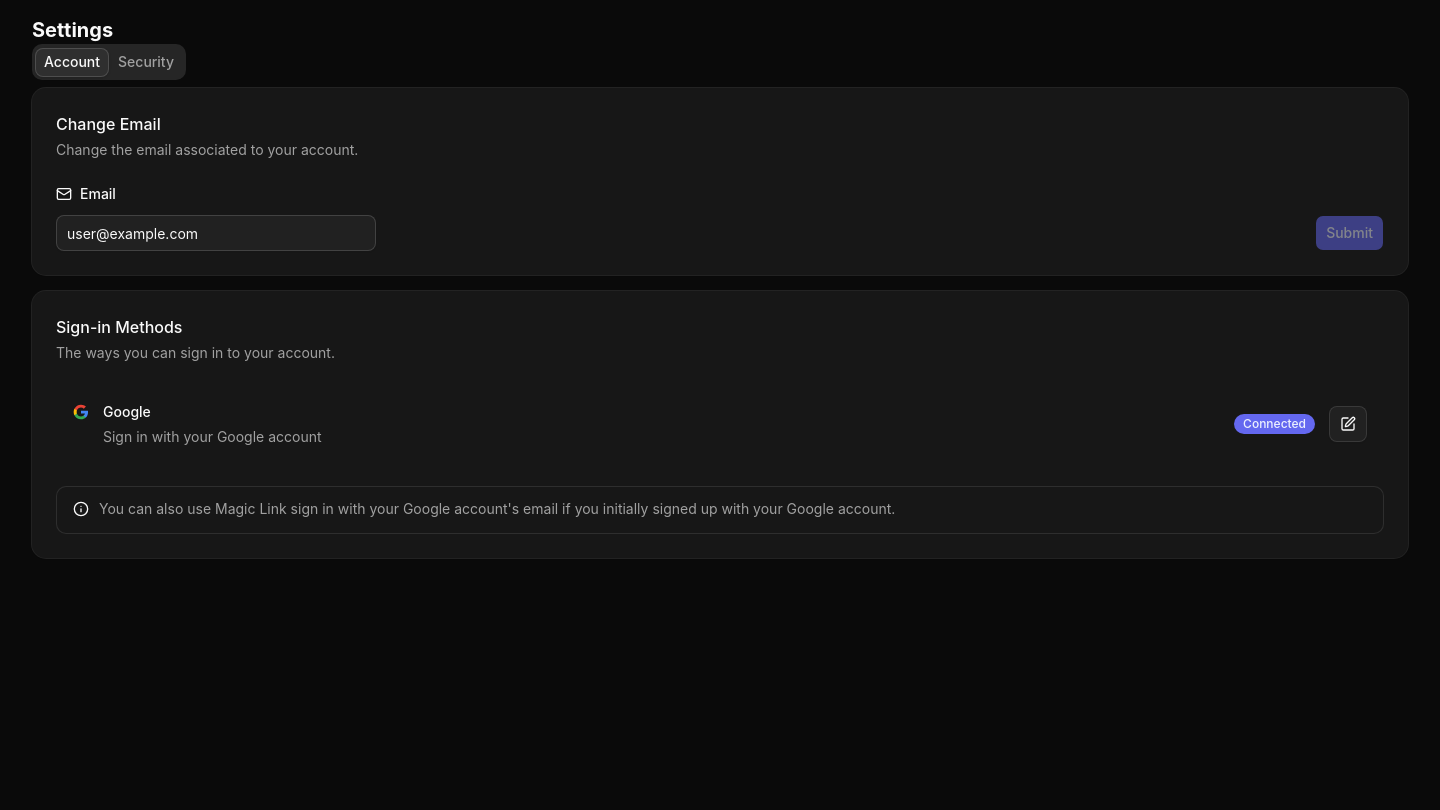
Test: Settings Page › Change Email section › shows error message when changeEmail action fails
This screenshot has width=1440, height=810.
Replace the text in the field labelled "Email" with "taken@example.com" at (216, 233), box [56, 215, 376, 251]
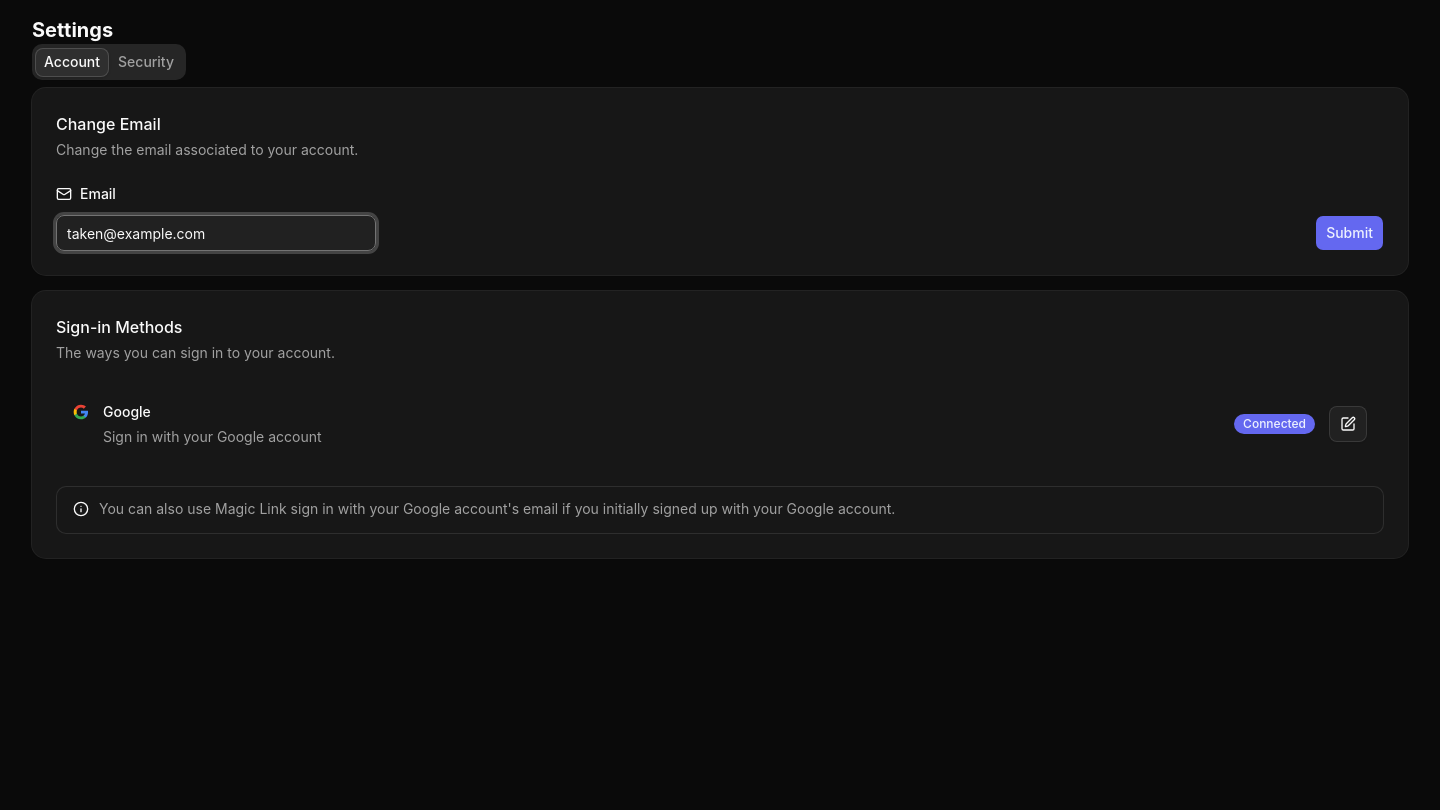
Click the button "Submit" at (1350, 233), box [1315, 215, 1384, 251]
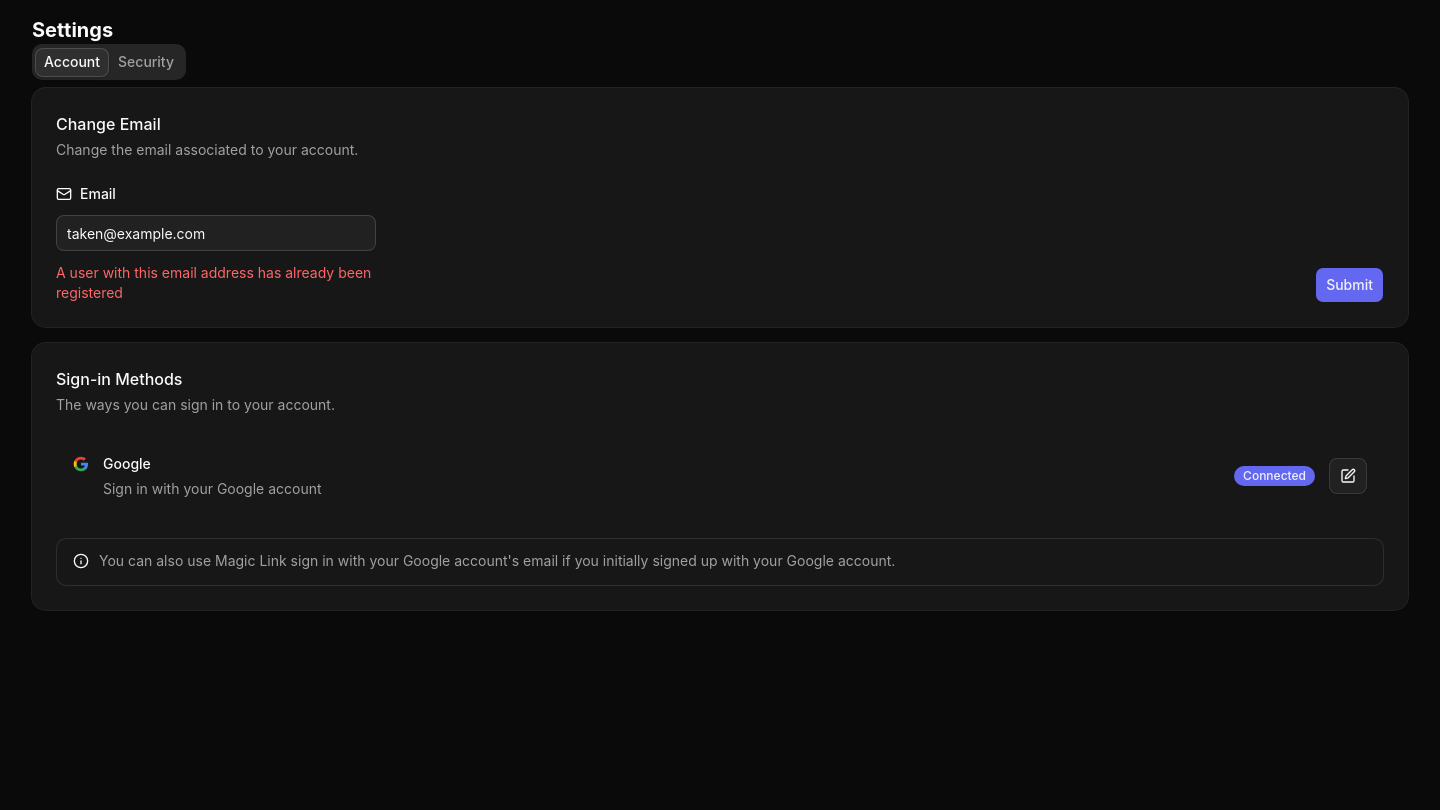
Expected: the text "A user with this email address has already been registered" is shown, [56, 263, 376, 303]
